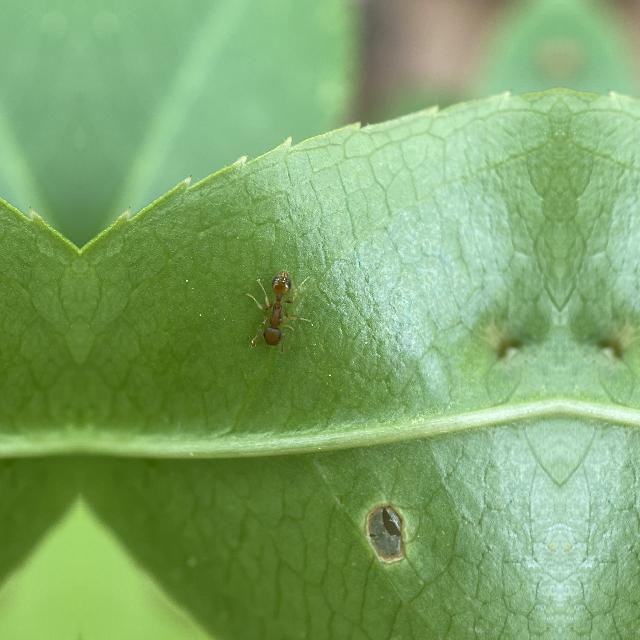Temnothorax: (252, 262, 310, 360)
